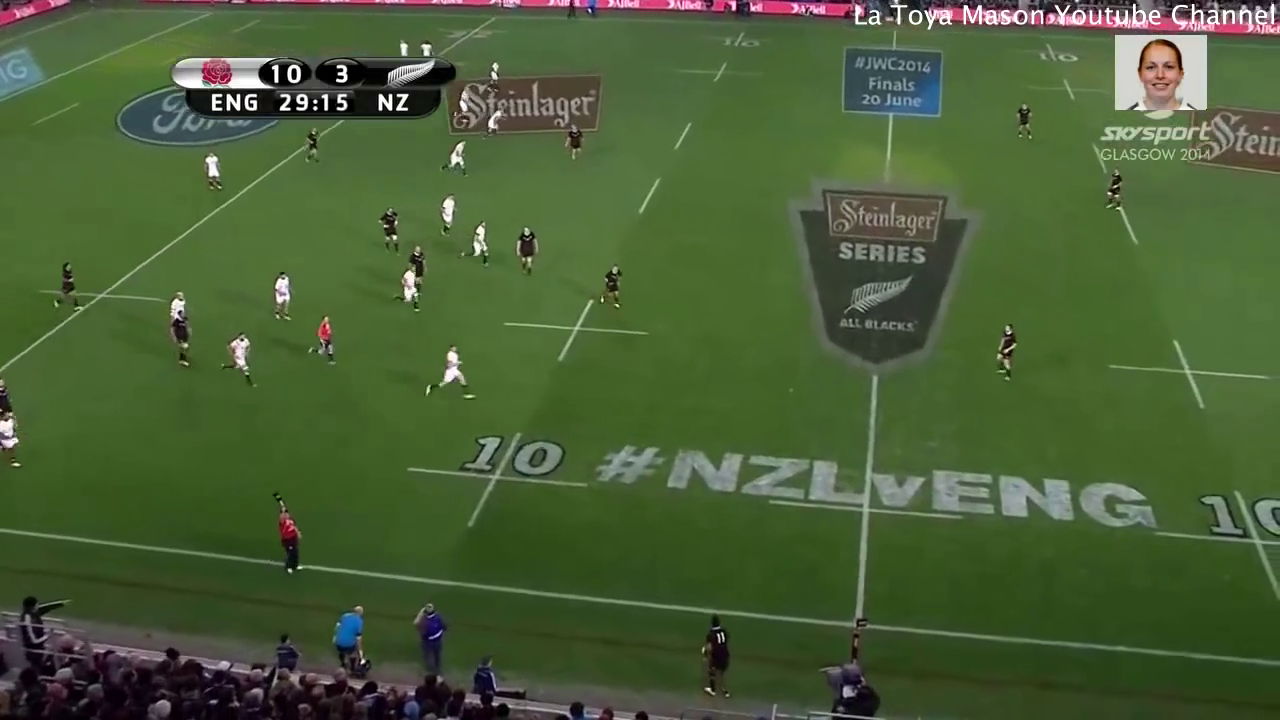10_metre: (404, 428, 593, 533), (1102, 336, 1280, 416), (1151, 486, 1280, 594), (498, 294, 655, 371), (1026, 72, 1112, 101), (677, 59, 768, 86), (1010, 41, 1092, 62), (701, 29, 778, 50)
player: (265, 489, 306, 580), (425, 337, 474, 404), (218, 332, 263, 393), (301, 312, 342, 367), (389, 265, 429, 315), (265, 266, 299, 324), (990, 315, 1017, 386), (50, 263, 87, 313), (374, 203, 405, 260), (460, 216, 492, 269), (512, 224, 540, 279), (199, 146, 229, 196), (598, 259, 625, 312), (166, 311, 193, 363), (437, 138, 470, 180), (405, 242, 430, 296), (1, 409, 20, 480), (434, 186, 458, 241), (1102, 164, 1126, 213), (1012, 98, 1036, 143), (565, 121, 586, 165), (481, 105, 506, 141), (303, 124, 325, 164), (165, 288, 185, 323), (1, 379, 17, 420), (487, 58, 504, 94), (453, 86, 472, 118)
